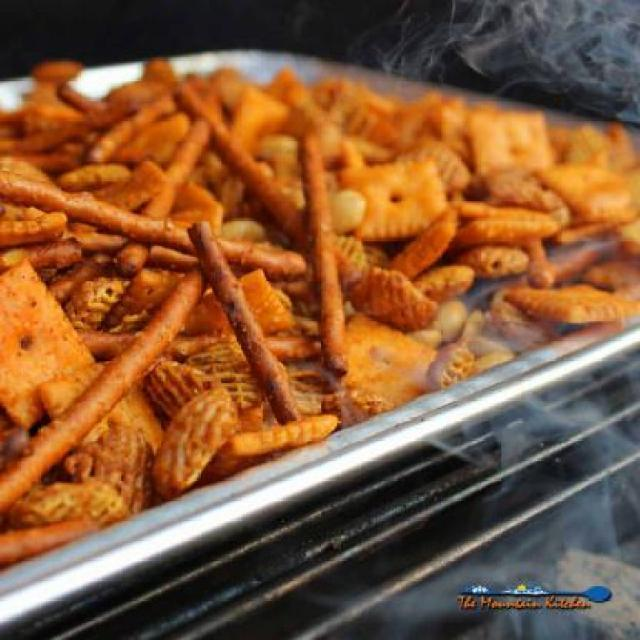Salatini packaged: (9, 56, 640, 496)
